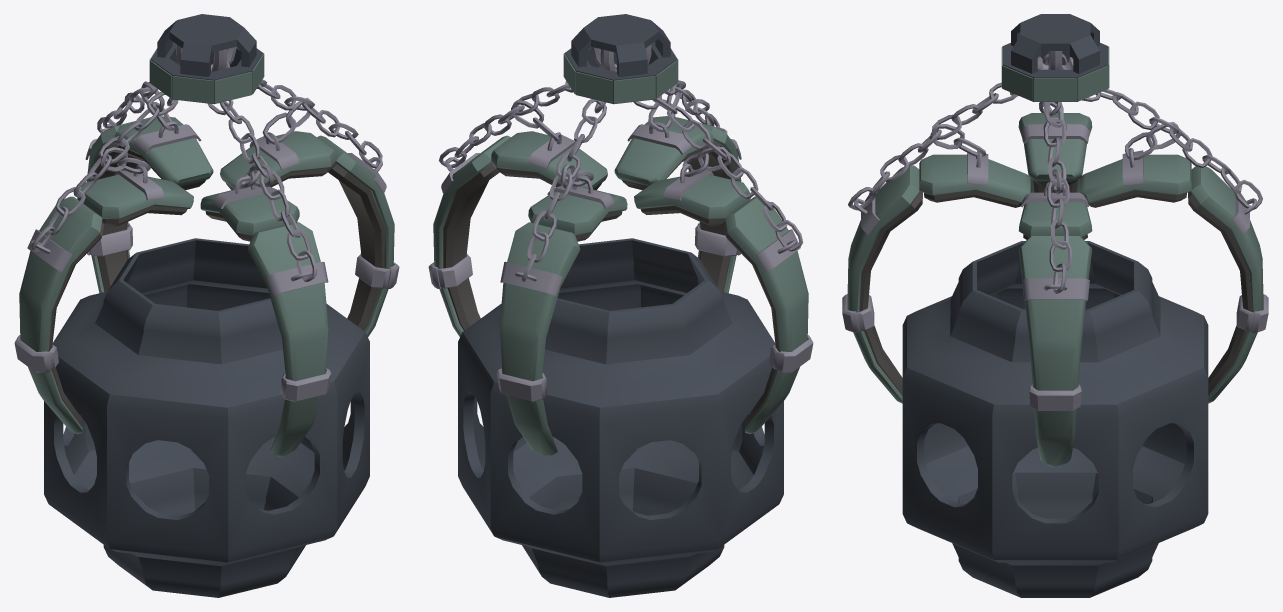
Rendered from Greifarm_Kürby_01.fbx.
3 views of the same model, side by side, from view 1: azimuth 30°, elevation 25°; view 2: azimuth 150°, elevation 25°; view 3: azimuth 270°, elevation 25° (orthographic).
Parts seen in each view (by area): view 1: Kürby_01, Greifarm_03, Greifarm_01, Greifarm_04, Greifhalter_01, Greifarm_02; view 2: Kürby_01, Greifarm_02, Greifarm_01, Greifarm_04, Greifhalter_01, Greifarm_03; view 3: Kürby_01, Greifarm_04, Greifarm_02, Greifarm_03, Greifhalter_01, Greifarm_01.
Boxes of the visible parts, x1,y1,x2,y2 form: Kürby_01: (44,238,369,597); Greifarm_03: (200,64,331,456); Greifarm_01: (14,91,193,434); Greifarm_04: (213,56,399,336); Greifhalter_01: (149,14,264,104); Greifarm_02: (85,81,213,293); Kürby_01: (458,238,783,597); Greifarm_02: (496,64,627,456); Greifarm_01: (633,95,813,434); Greifarm_04: (428,64,607,336); Greifhalter_01: (563,14,678,104); Greifarm_03: (614,80,741,293); Kürby_01: (902,241,1208,597); Greifarm_04: (1018,65,1092,466); Greifarm_02: (1068,56,1268,403); Greifarm_03: (842,56,1042,403); Greifhalter_01: (1001,14,1109,101); Greifarm_01: (1018,53,1092,192).
Bounding box in the file's own units: 502 × 694 × 502.
